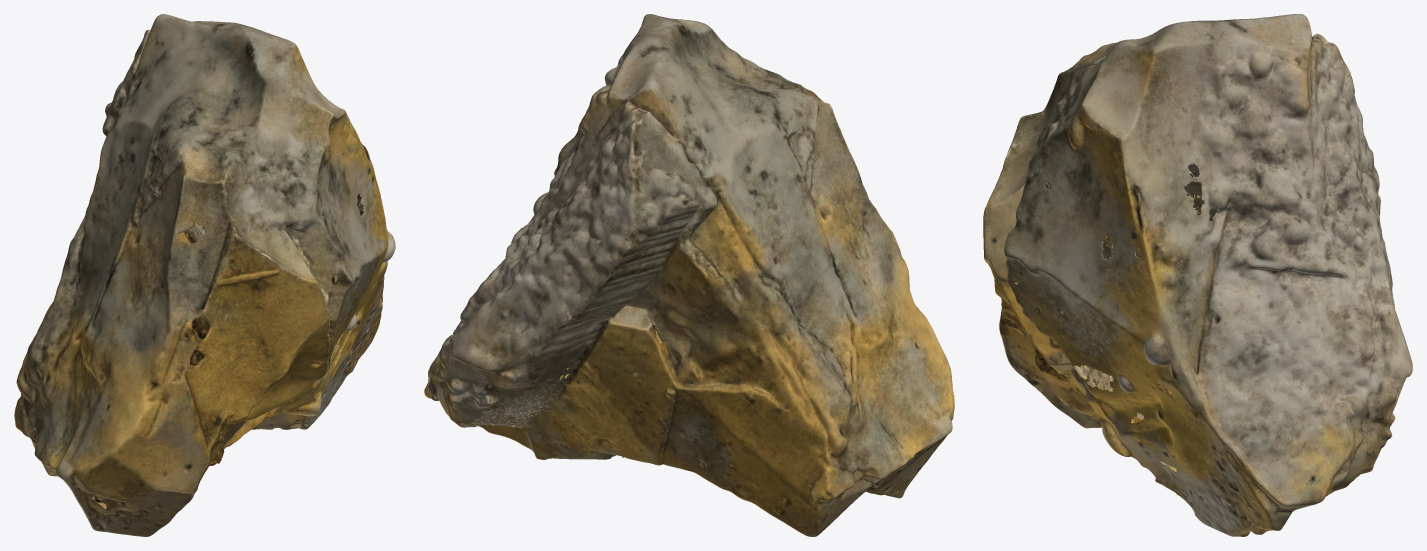
The model's file is mosaic_shard.glb.
3 views of the same model, side by side, from view 1: azimuth 30°, elevation 25°; view 2: azimuth 150°, elevation 25°; view 3: azimuth 270°, elevation 25° (orthographic). The views are drawn at different scales.
Visible parts, largest first — view 1: world; view 2: world; view 3: world.
Boxes of the visible parts, left/top/right/bottom form: world: left=14, top=14, right=395, bottom=536; world: left=424, top=14, right=954, bottom=536; world: left=983, top=14, right=1412, bottom=536.
Bounding box in the file's own units: 0.9689 × 1 × 0.8043.
Materials: 1 (1 with a texture image).
